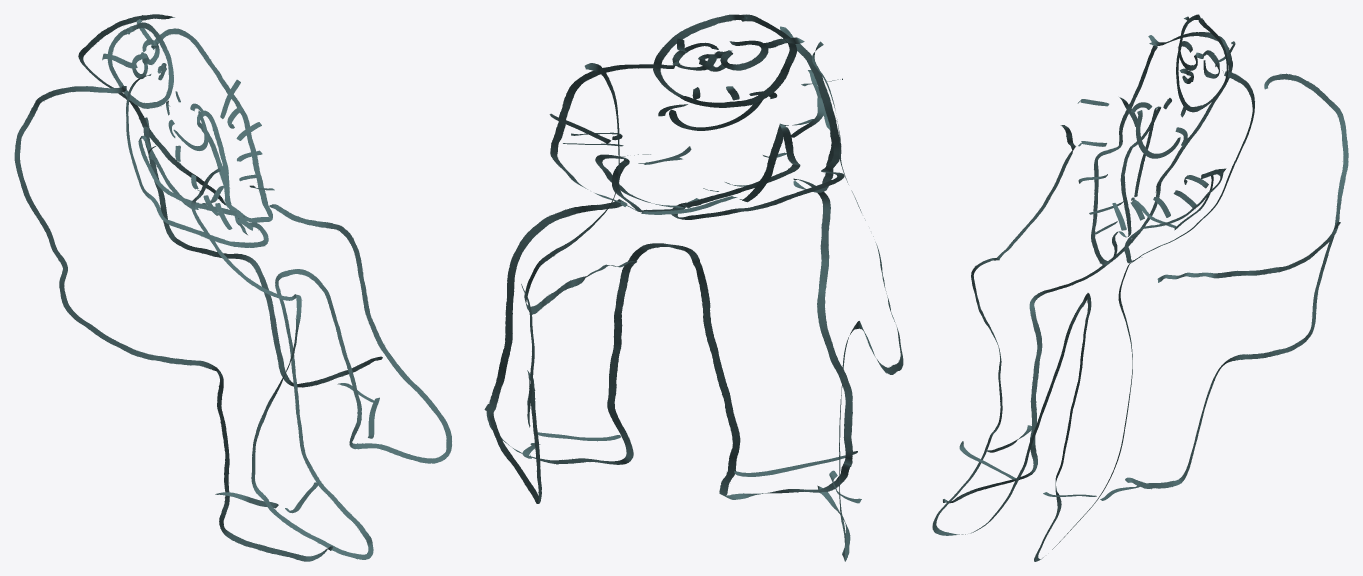
3 views of the same model, side by side, from view 1: azimuth 30°, elevation 25°; view 2: azimuth 150°, elevation 25°; view 3: azimuth 270°, elevation 25° (orthographic). The views are drawn at different scales.
Parts seen in each view (by area): view 1: brush_Paper_g0_b0, brush_DuctTape_g0_b0; view 2: brush_Paper_g0_b0, brush_DuctTape_g0_b0; view 3: brush_Paper_g0_b0, brush_DuctTape_g0_b0.
Part boxes in pixels (box(x1,y1,x2,y2)): brush_Paper_g0_b0: box(14, 14, 451, 561); brush_DuctTape_g0_b0: box(148, 79, 379, 513); brush_Paper_g0_b0: box(484, 14, 903, 561); brush_DuctTape_g0_b0: box(522, 78, 861, 503); brush_Paper_g0_b0: box(932, 14, 1348, 561); brush_DuctTape_g0_b0: box(959, 97, 1226, 500).
Bounding box in the file's own units: 0.9095 × 1.14 × 0.9336.
Materials: 2 (2 with a texture image).
